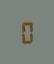zero: (19, 20, 33, 43)
